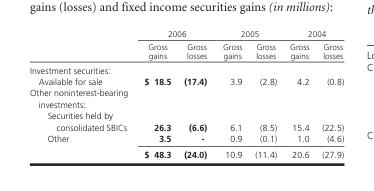table: (28, 28, 343, 159)
table column: (28, 28, 134, 159), (134, 28, 176, 159), (176, 28, 214, 159), (247, 28, 282, 159), (214, 28, 247, 159), (282, 28, 314, 159), (314, 28, 343, 159)
table column header: (28, 28, 343, 62)
table projected row header: (28, 86, 343, 109), (28, 62, 343, 75)
table row: (28, 39, 343, 62), (28, 86, 343, 109), (28, 109, 343, 132), (28, 132, 343, 146), (28, 62, 343, 75), (28, 146, 343, 159), (28, 28, 343, 39), (28, 75, 343, 86)
table spanning cell: (134, 28, 214, 39), (214, 28, 282, 39), (282, 28, 343, 39)
